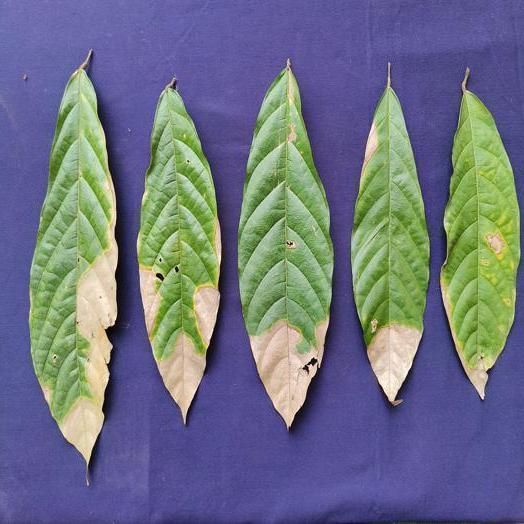Potassium: (29, 50, 117, 468), (238, 60, 333, 428), (137, 78, 221, 423), (351, 63, 429, 404), (441, 69, 519, 398)
